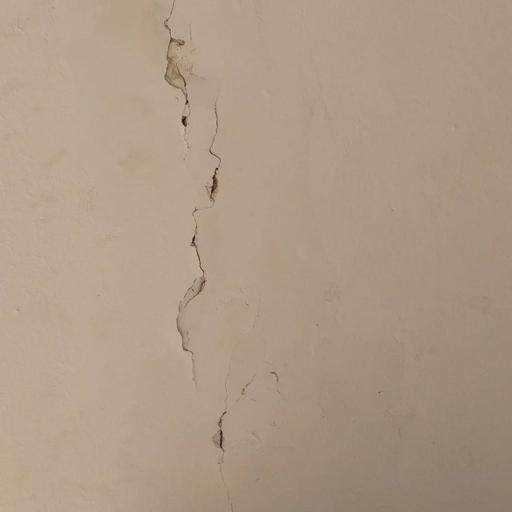minor_crack: (152, 14, 226, 396), (211, 368, 306, 512)
